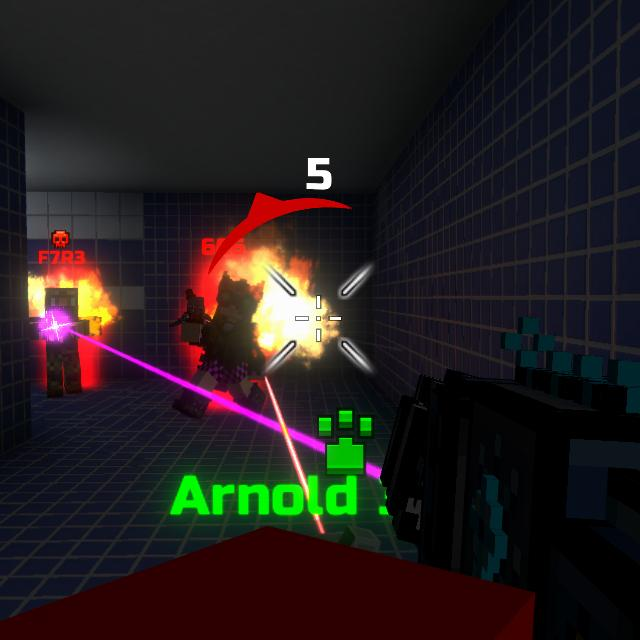Enemy: (179, 271, 265, 392), (30, 284, 104, 398)
